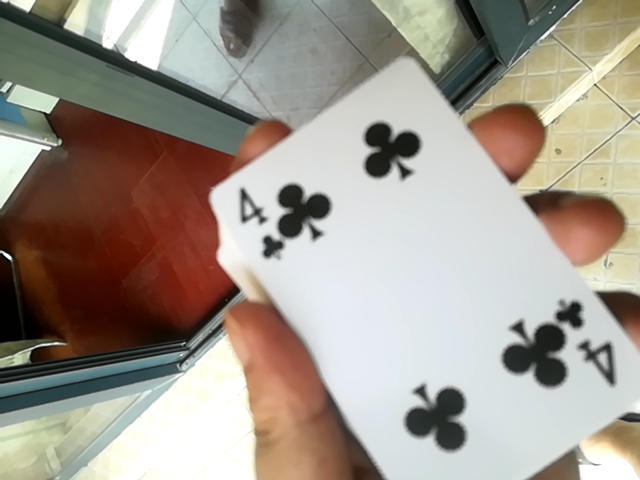mh 4: (204, 17, 634, 477)
